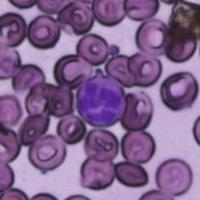N: (76, 74, 127, 126)
